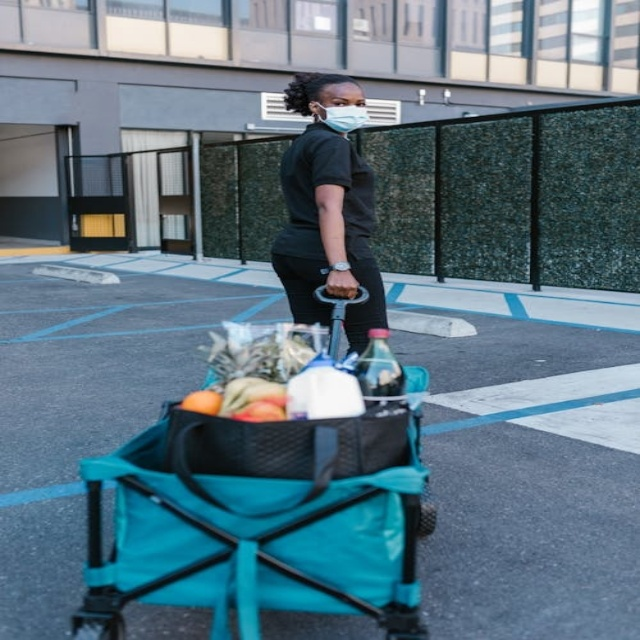Mascara: (315, 103, 369, 133)
Sin_gafas: (325, 94, 369, 108)
Sin_guantes: (320, 265, 365, 301)
